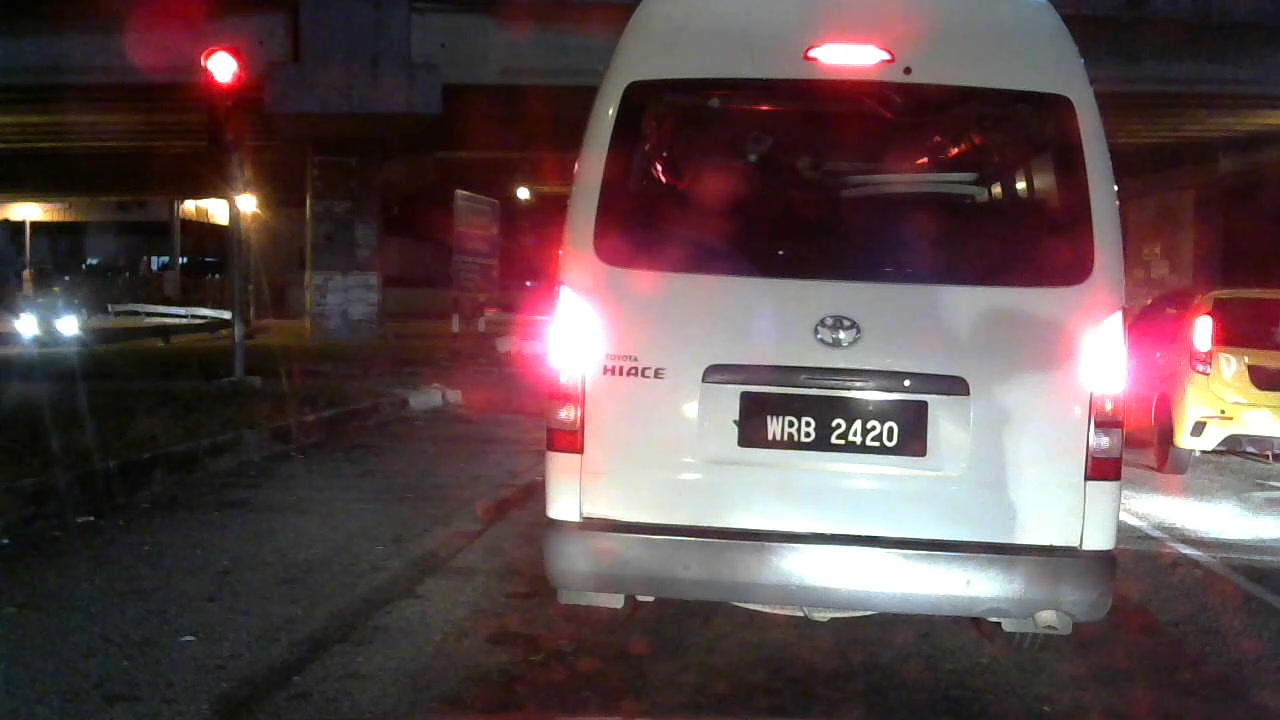Car: (1129, 279, 1280, 479), (3, 284, 111, 351)
